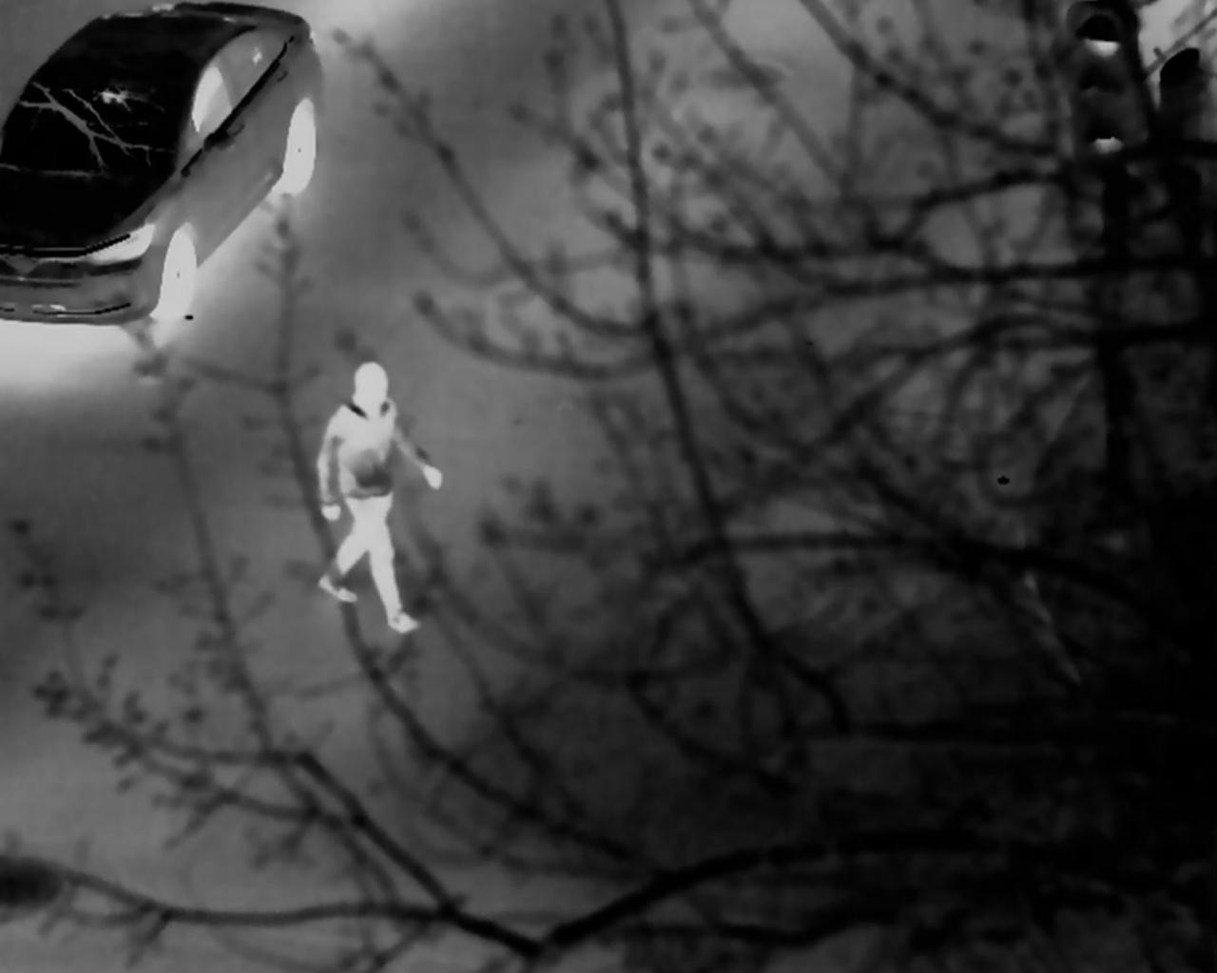person: (315, 364, 444, 630)
